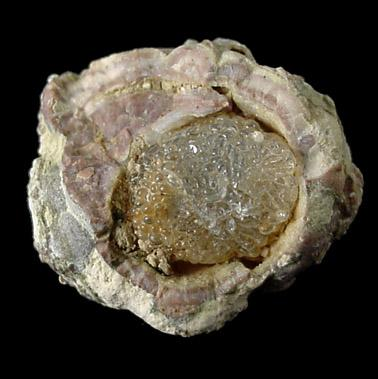opal: (114, 114, 299, 276)
